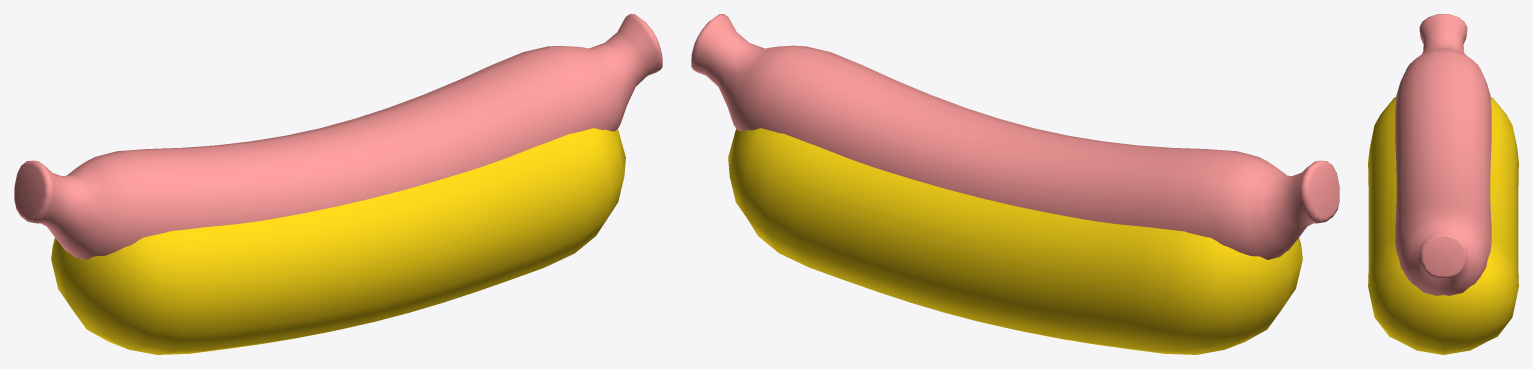
File: Store_12_Hot_Dog_4.glb
The picture shows the model from 3 angles, left to right: view 1: azimuth 30°, elevation 25°; view 2: azimuth 150°, elevation 25°; view 3: azimuth 270°, elevation 25°; orthographic projection. The views are drawn at different scales.
Parts seen in each view (by area): view 1: Store_12_Hot_Dog_4; view 2: Store_12_Hot_Dog_4; view 3: Store_12_Hot_Dog_4.
Boxes of the visible parts, left/top/right/bottom form: Store_12_Hot_Dog_4: left=14, top=14, right=662, bottom=354; Store_12_Hot_Dog_4: left=691, top=14, right=1339, bottom=354; Store_12_Hot_Dog_4: left=1368, top=14, right=1518, bottom=354.
Size of the model in its own units: 0.7034 by 0.2409 by 0.1945.
Materials: 1 (1 with a texture image).
